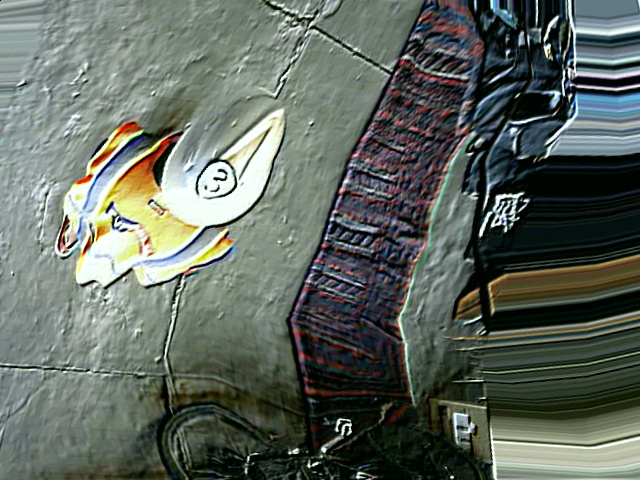three: (189, 158, 244, 207)
